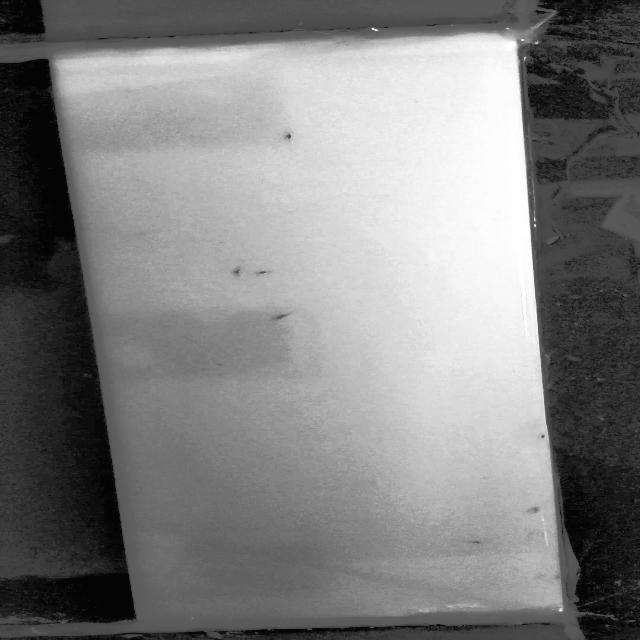shrimp: (460, 528, 498, 554), (257, 127, 307, 143), (263, 310, 299, 326), (222, 256, 247, 277), (258, 261, 273, 279)
